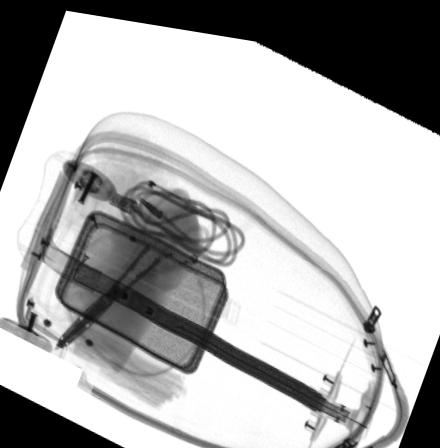Scissors: (54, 181, 210, 348)
